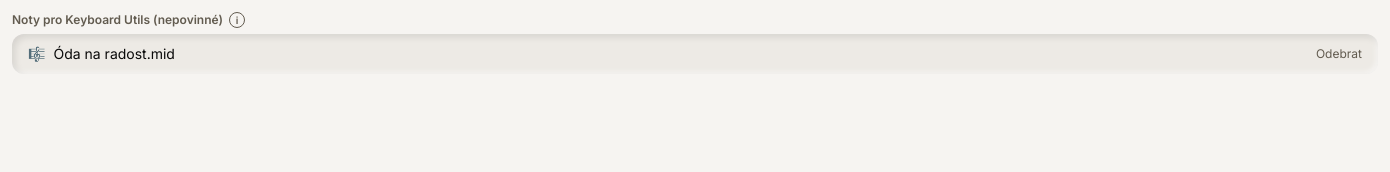
it: AttachmentField › takes a MIDI file and can drop it again
Earlier steps of the test are not shown.
Check: the text "Óda na radost.mid" is shown, box [54, 45, 175, 62]
What coordinates should you click on to do the following:
click the button "Odebrat"
I would click on:
 (1339, 54)
Its box is [1316, 46, 1362, 62].
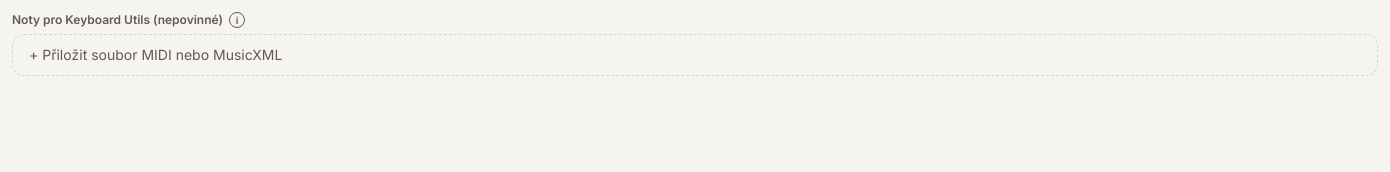
Check: the text "Óda na radost.mid" is gone
